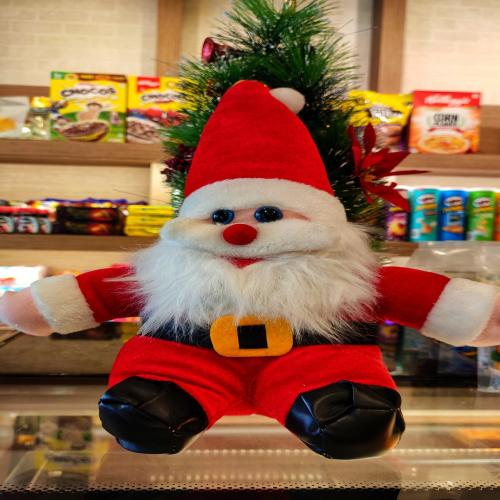Santa: (3, 79, 499, 459)
